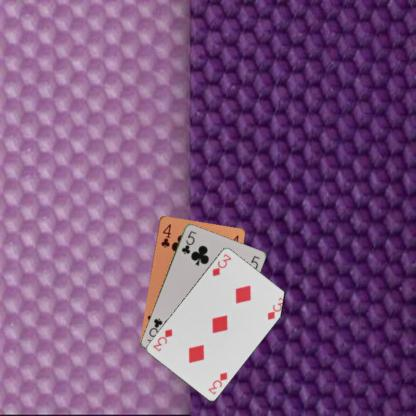3d: (210, 251, 233, 278), (206, 369, 228, 396)
4c: (158, 221, 172, 249)
5c: (179, 228, 198, 256)
